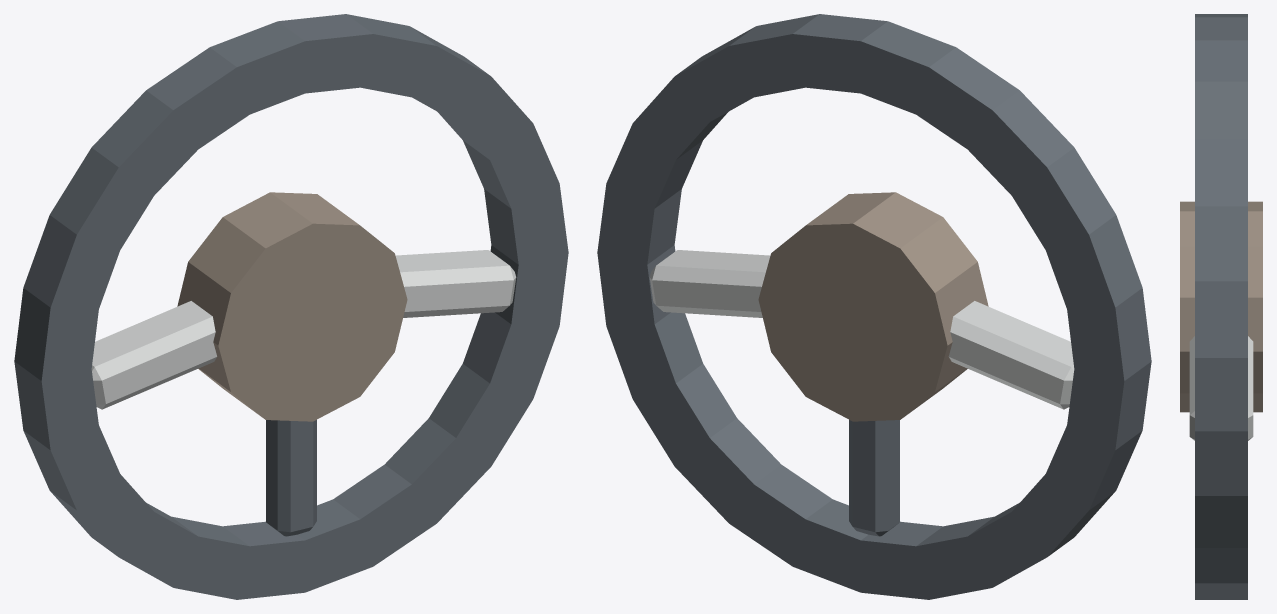
File: SteeringWheel.glb
The picture shows the model from 3 angles, left to right: view 1: azimuth 30°, elevation 25°; view 2: azimuth 150°, elevation 25°; view 3: azimuth 270°, elevation 25°; orthographic projection. The views are drawn at different scales.
Parts seen in each view (by area): view 1: SteeringWheel_CharcoalTrim, SteeringWheel_WalnutDashboard, SteeringWheel_MatteAlloy; view 2: SteeringWheel_CharcoalTrim, SteeringWheel_WalnutDashboard, SteeringWheel_MatteAlloy; view 3: SteeringWheel_CharcoalTrim, SteeringWheel_WalnutDashboard, SteeringWheel_MatteAlloy.
Boxes of the visible parts, x1=… form: SteeringWheel_CharcoalTrim: x1=14, y1=14, x2=568, y2=599; SteeringWheel_WalnutDashboard: x1=177, y1=192, x2=407, y2=421; SteeringWheel_MatteAlloy: x1=91, y1=250, x2=516, y2=409; SteeringWheel_CharcoalTrim: x1=597, y1=14, x2=1151, y2=599; SteeringWheel_WalnutDashboard: x1=758, y1=192, x2=988, y2=421; SteeringWheel_MatteAlloy: x1=649, y1=250, x2=1074, y2=409; SteeringWheel_CharcoalTrim: x1=1195, y1=14, x2=1247, y2=599; SteeringWheel_WalnutDashboard: x1=1180, y1=201, x2=1262, y2=412; SteeringWheel_MatteAlloy: x1=1189, y1=336, x2=1253, y2=440.
Size of the model in its own units: 0.39 by 0.39 by 0.055.
